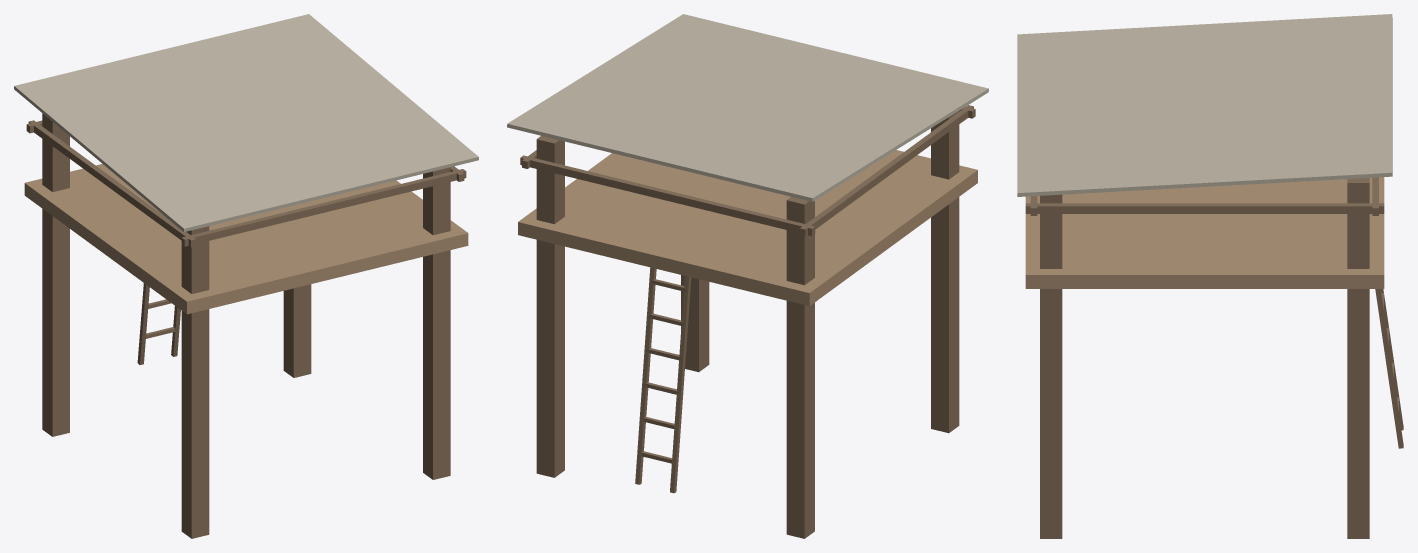
File: watchpost.glb
3 renders of one model, left to right at view 1: azimuth 30°, elevation 25°; view 2: azimuth 150°, elevation 25°; view 3: azimuth 270°, elevation 25°, orthographic. The views are drawn at different scales.
Visible parts, largest first — view 1: watchpost; view 2: watchpost; view 3: watchpost.
Boxes of the visible parts, bbox=[...] form: watchpost: bbox=[14, 14, 478, 538]; watchpost: bbox=[507, 14, 988, 538]; watchpost: bbox=[1017, 14, 1403, 538].
Size of the model in its own units: 4.4 by 4.86 by 4.53.
